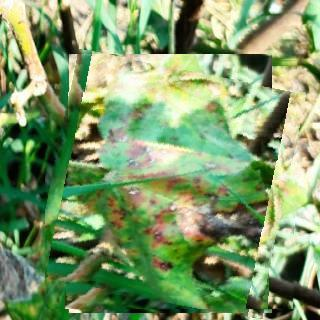blight: (45, 58, 297, 309)
